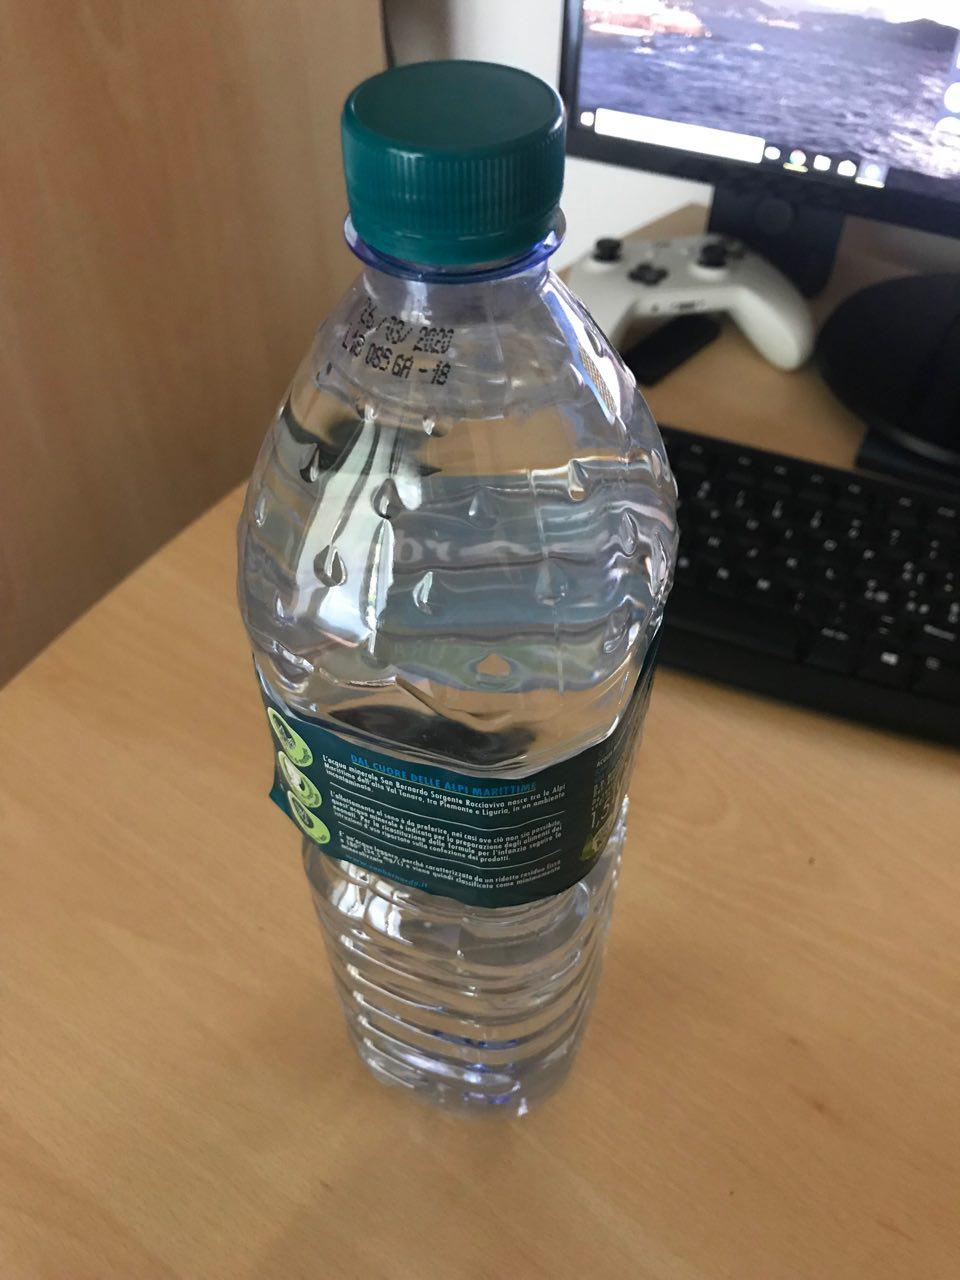san_bernardo: (233, 60, 682, 1117)
